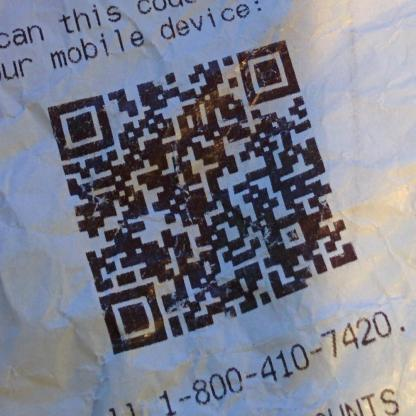qr: (44, 37, 365, 356)
